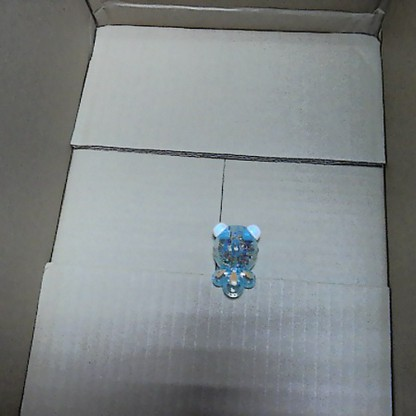bluefish: (205, 218, 264, 298)
